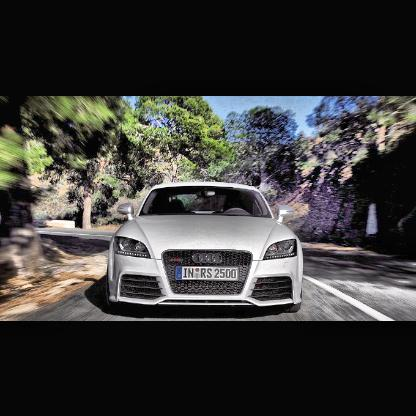Audi TT RS Coupe 2012: (106, 180, 307, 315)
